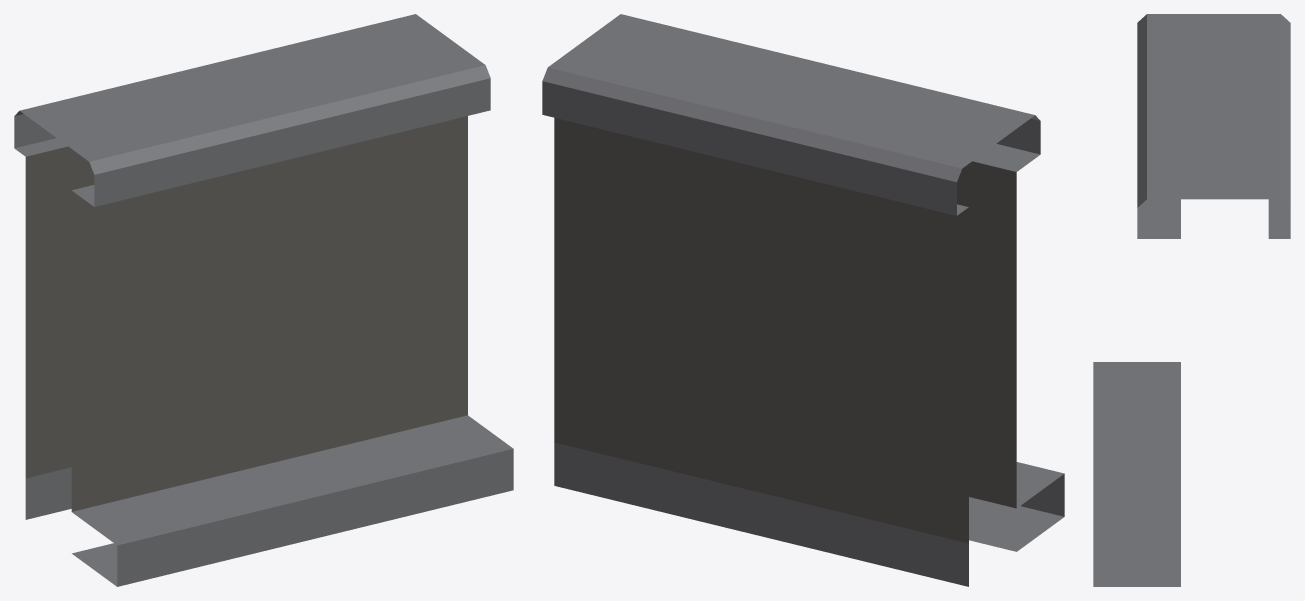
File: SM_Roof_1m.fbx
The picture shows the model from 3 angles, left to right: view 1: azimuth 30°, elevation 25°; view 2: azimuth 150°, elevation 25°; view 3: azimuth 270°, elevation 25°; orthographic projection. The views are drawn at different scales.
Parts seen in each view (by area): view 1: SM_Roof_1m; view 2: SM_Roof_1m; view 3: SM_Roof_1m.
Part boxes in pixels (left/top/right/bottom): SM_Roof_1m: left=14, top=14, right=513, bottom=586; SM_Roof_1m: left=542, top=14, right=1064, bottom=586; SM_Roof_1m: left=1093, top=14, right=1290, bottom=586.
Size of the model in its own units: 100 by 97.55 by 45.
